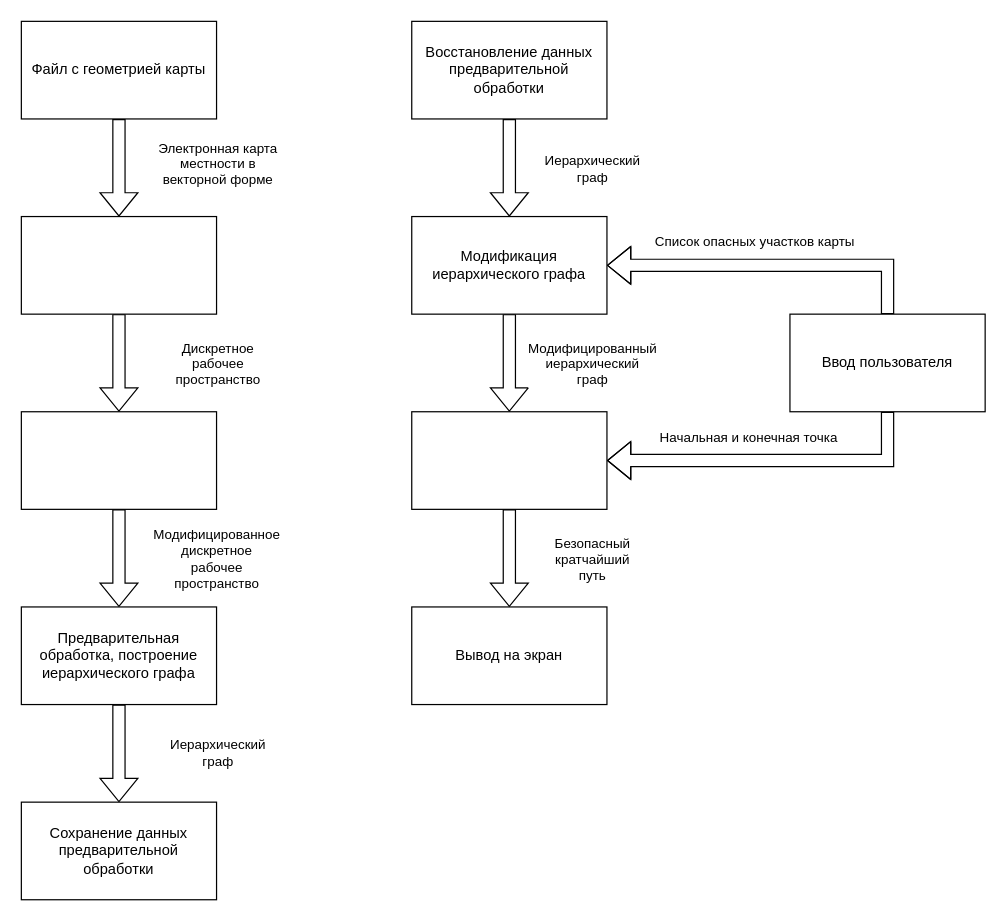
The diagram is 1007 pixels wide and 921 high, and some of its shapes have lost their labels. Here are the shapes that lost their labels. From the top down, the centre of each, then its label:
pixel 118 264: Растеризация электронной карты местности
pixel 118 460: Модификация дискретного рабочего пространства
pixel 509 460: Поиск кратчайшего пути по алгоритму HPA*
